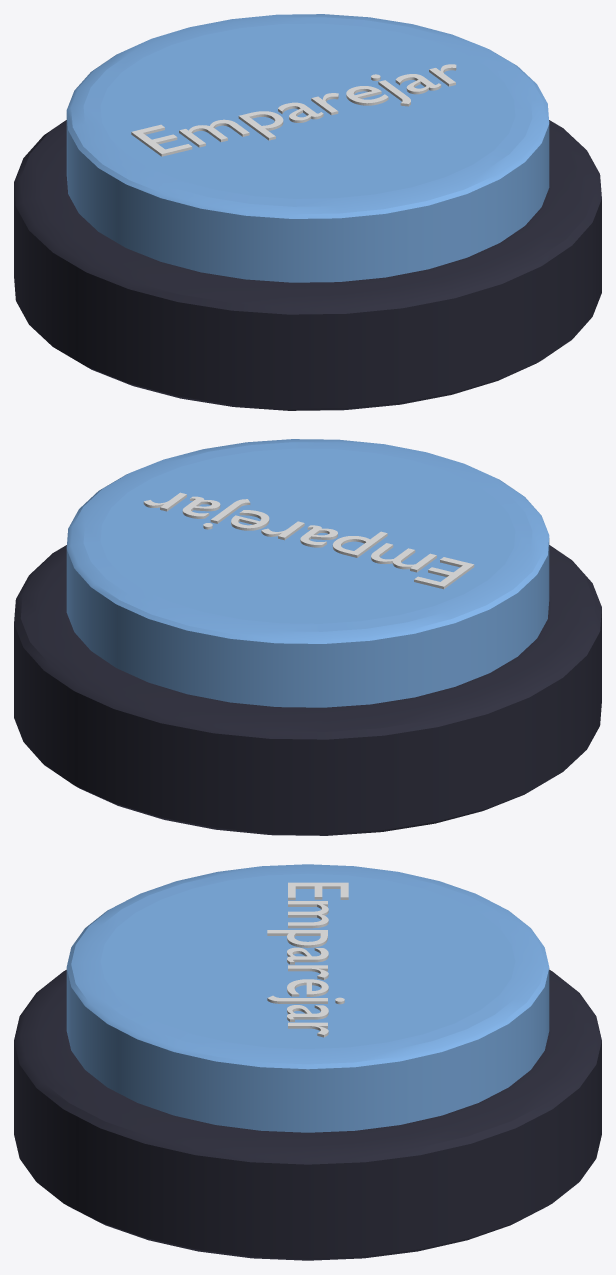
File: EmparejarButon.fbx
The picture shows the model from 3 angles, top to bottom: view 1: azimuth 30°, elevation 25°; view 2: azimuth 150°, elevation 25°; view 3: azimuth 270°, elevation 25°; orthographic projection.
Parts seen in each view (by area): view 1: Cylinder.001, Cylinder; view 2: Cylinder.001, Cylinder; view 3: Cylinder.001, Cylinder.
Boxes of the visible parts, bbox=[...] form: Cylinder.001: bbox=[66, 14, 549, 282]; Cylinder: bbox=[14, 120, 601, 410]; Cylinder.001: bbox=[66, 439, 549, 707]; Cylinder: bbox=[14, 545, 601, 835]; Cylinder.001: bbox=[66, 864, 549, 1132]; Cylinder: bbox=[14, 970, 601, 1260].
Size of the model in its own units: 200 by 69.54 by 200.
